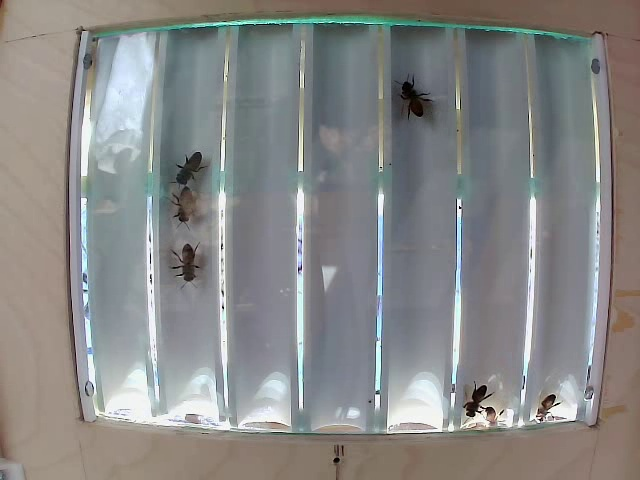bee: (169, 230, 217, 295), (166, 196, 206, 232), (390, 76, 423, 117), (183, 146, 213, 184)
